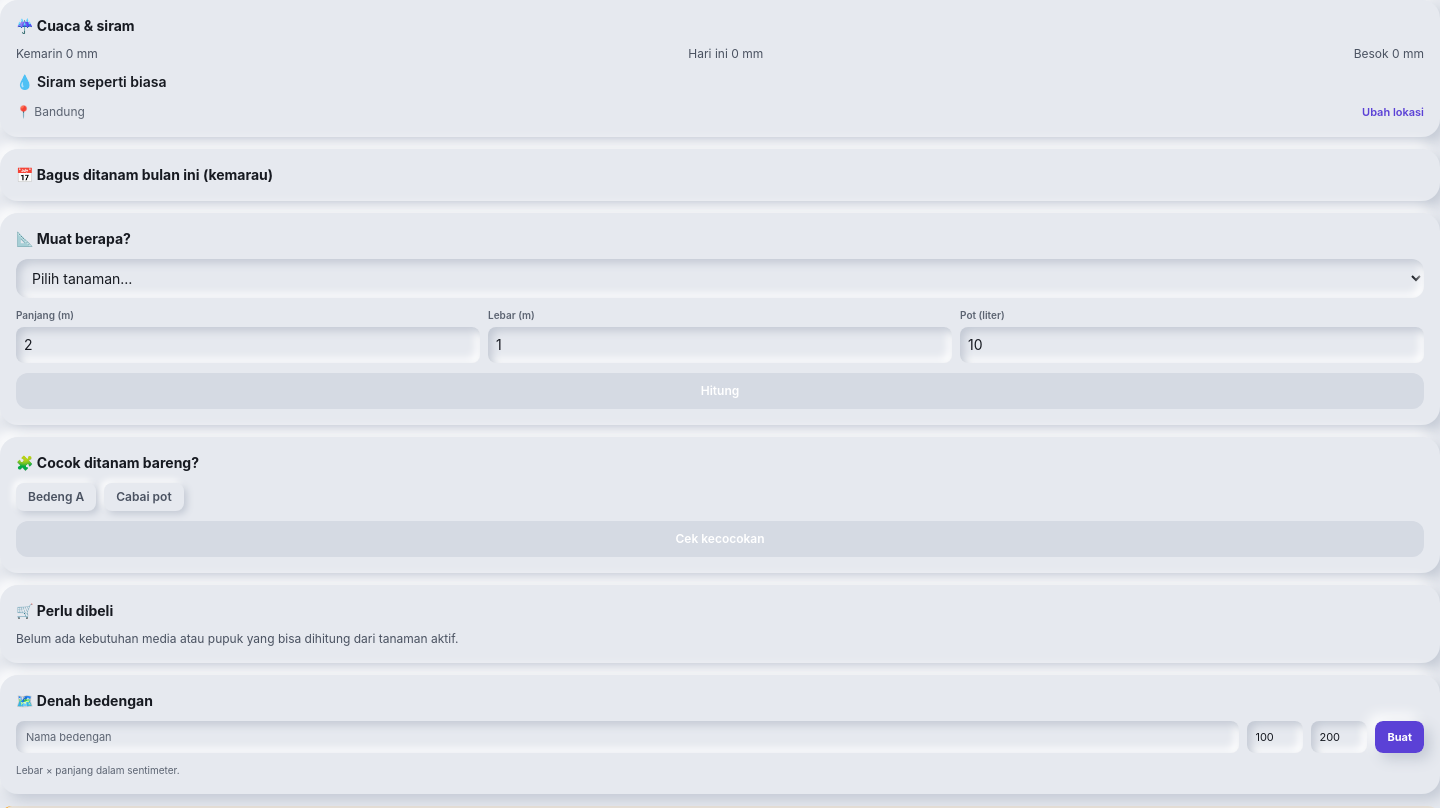
Test: GardenPlanner › menawarkan ubah lokasi begitu lokasi sudah diatur — dulu jalan buntu
Expected: the text "📍 Bandung" is shown, [16, 104, 85, 120]
Expected: the text "atau pilih kota terdekat" is not shown
Click the button "Ubah lokasi" at (1393, 112), box [1362, 104, 1424, 120]
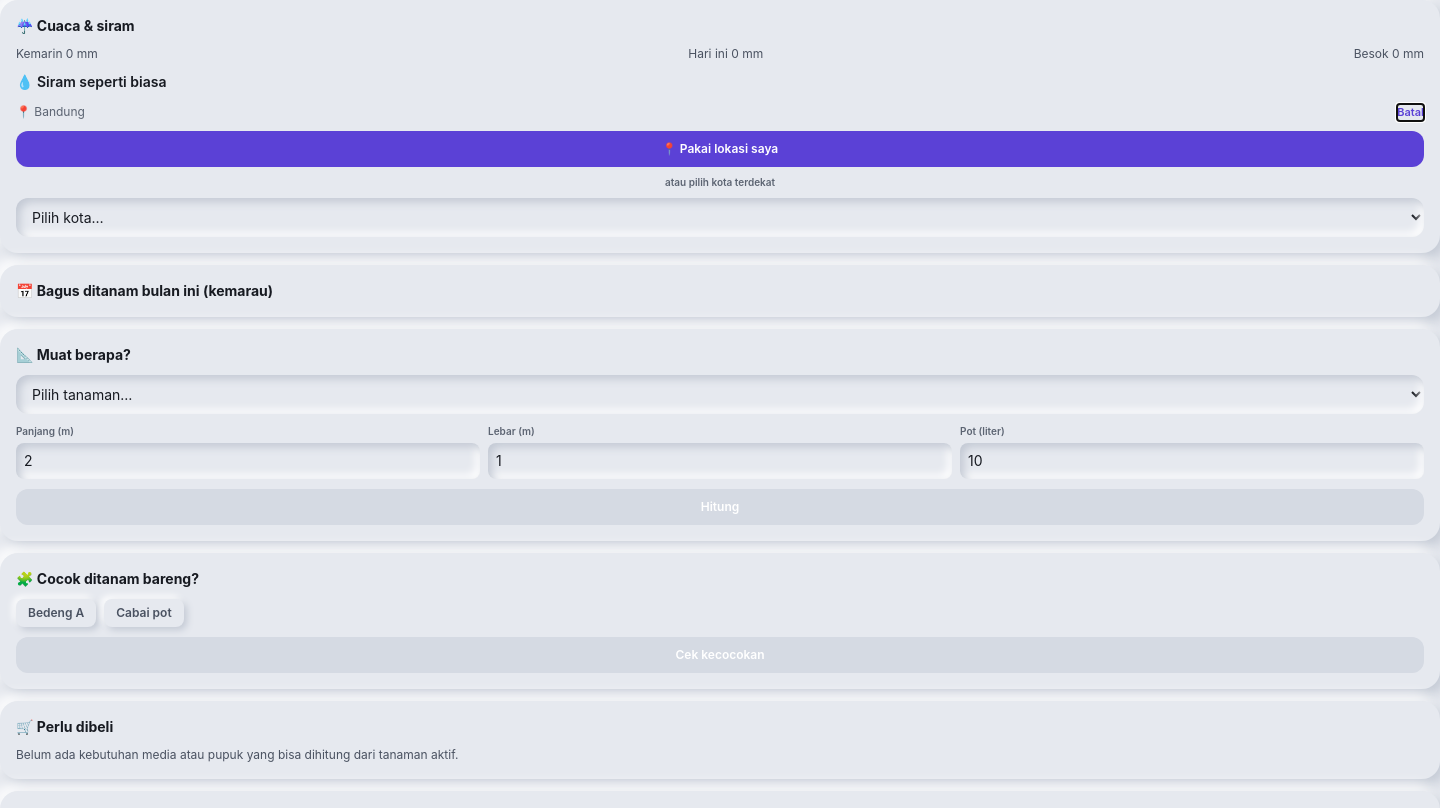
Result: the text "atau pilih kota terdekat" is shown at [665, 176, 775, 188]
Result: the button "📍 Pakai lokasi saya" is shown at [16, 130, 1424, 166]
Result: the button "Batal" is shown at [1397, 104, 1424, 120]
